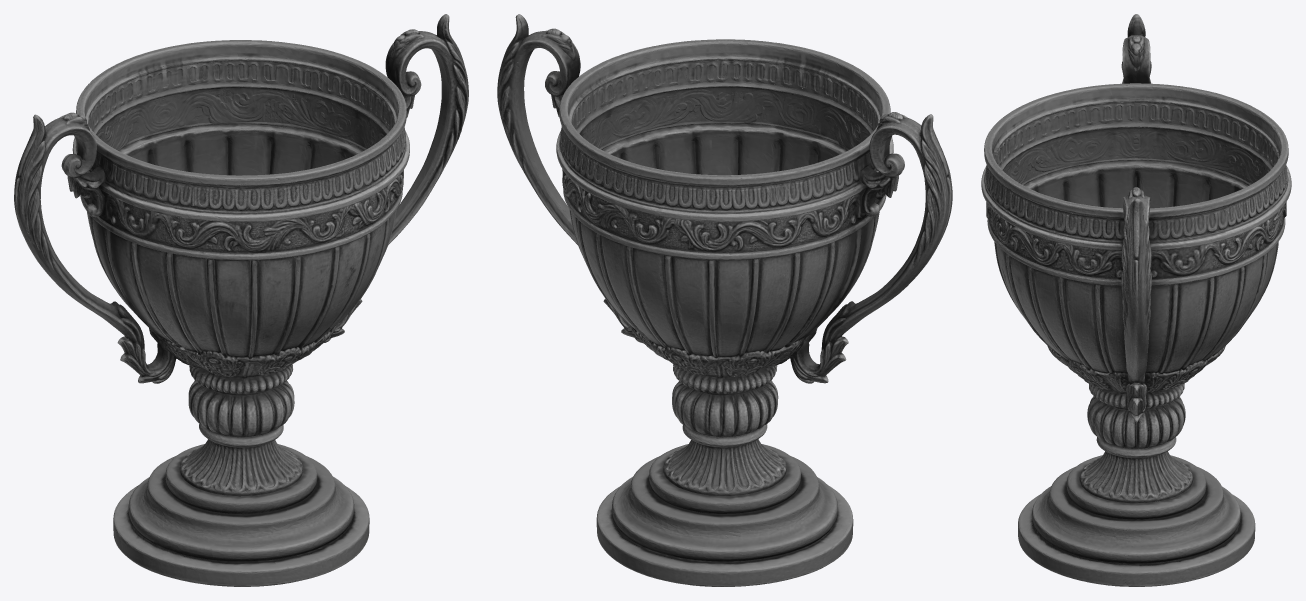
File: trophy.glb
The picture shows the model from 3 angles, left to right: view 1: azimuth 30°, elevation 25°; view 2: azimuth 150°, elevation 25°; view 3: azimuth 270°, elevation 25°; orthographic projection. The views are drawn at different scales.
Parts seen in each view (by area): view 1: tripo_node_05238cb7-bc5b-4e76-9113-4d1350e06ae4; view 2: tripo_node_05238cb7-bc5b-4e76-9113-4d1350e06ae4; view 3: tripo_node_05238cb7-bc5b-4e76-9113-4d1350e06ae4.
Boxes of the visible parts, <box> form: tripo_node_05238cb7-bc5b-4e76-9113-4d1350e06ae4: <box>14,14,468,586</box>; tripo_node_05238cb7-bc5b-4e76-9113-4d1350e06ae4: <box>497,14,952,586</box>; tripo_node_05238cb7-bc5b-4e76-9113-4d1350e06ae4: <box>981,14,1291,586</box>.
Bounding box in the file's own units: 0.9825 × 0.9737 × 0.6349.
Materials: 1 (1 with a texture image).
